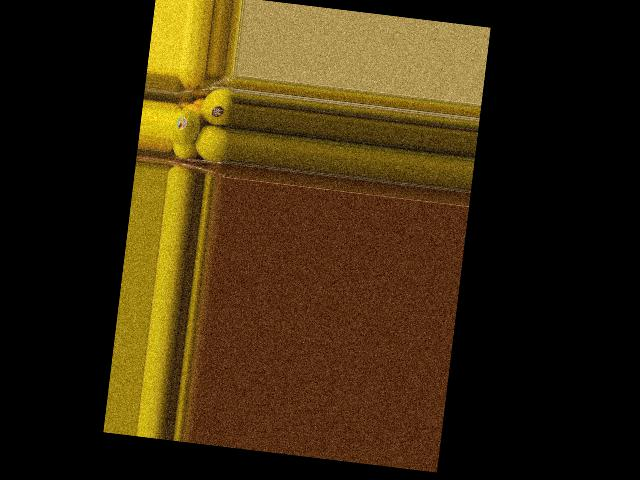apple: (170, 103, 201, 147)
